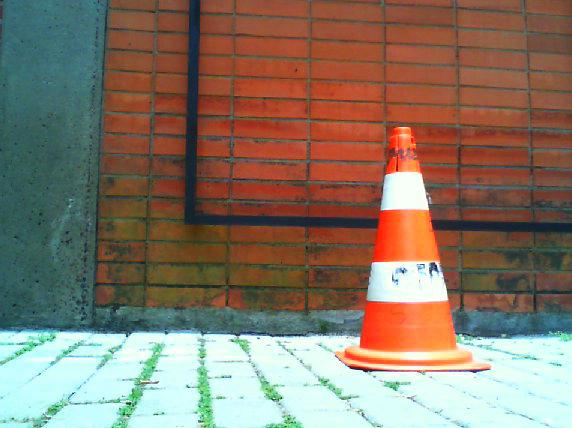0 cone: (334, 127, 490, 371)
